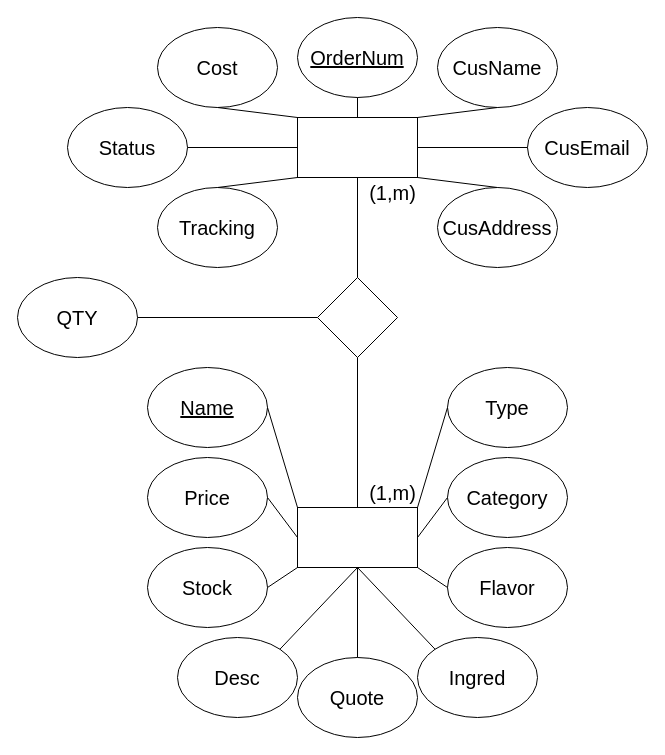
Some shapes in this 665 by 755 pixel diagram are drawn without their labels. The shapes that lost their labels are listed below. From the top down, each one's box as (x1, y1, x2, y2) in pixels, then its label:
(296, 116, 418, 178): Order
(316, 276, 398, 358): HAS
(296, 506, 418, 568): Drink
